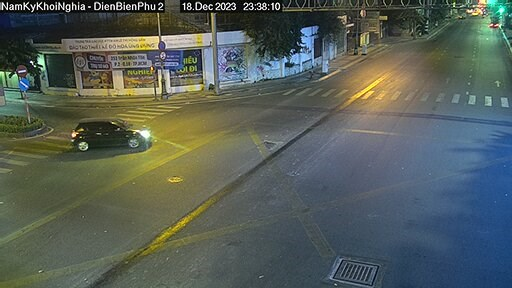car: (62, 110, 147, 157)
